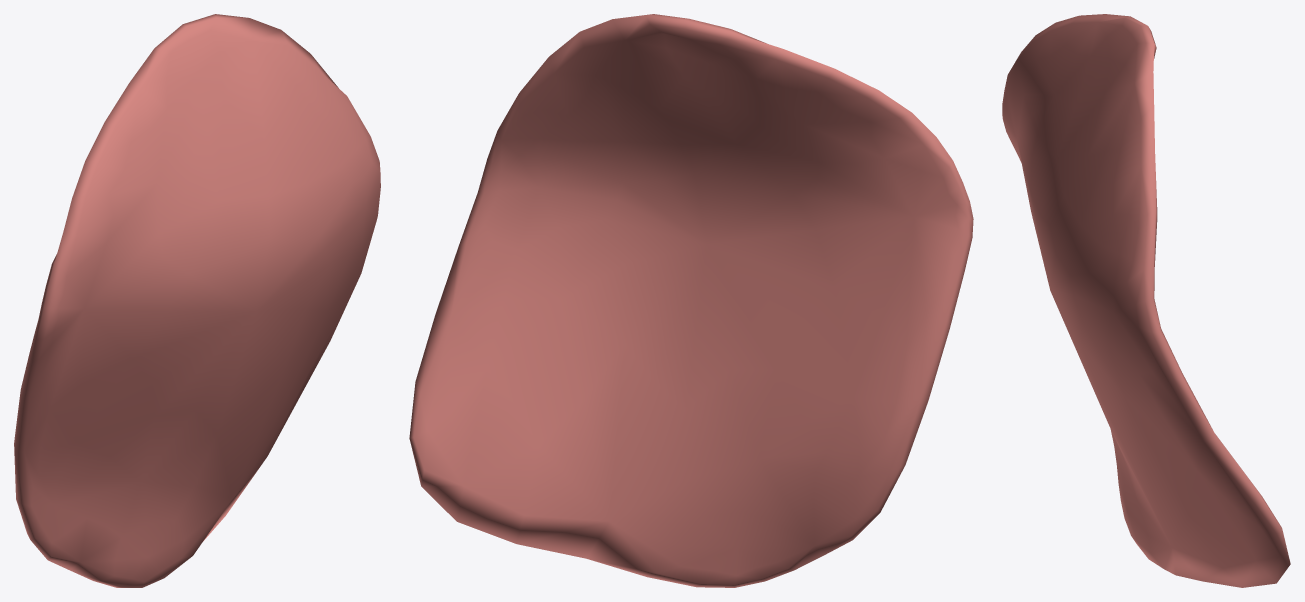
3 views of the same model, side by side, from view 1: azimuth 30°, elevation 25°; view 2: azimuth 150°, elevation 25°; view 3: azimuth 270°, elevation 25° (orthographic). The views are drawn at different scales.
Parts seen in each view (by area): view 1: ZA_0ede9794bd1d6210; view 2: ZA_0ede9794bd1d6210; view 3: ZA_0ede9794bd1d6210.
Boxes of the visible parts, bbox=[...] form: ZA_0ede9794bd1d6210: bbox=[14, 14, 380, 587]; ZA_0ede9794bd1d6210: bbox=[409, 14, 973, 587]; ZA_0ede9794bd1d6210: bbox=[1002, 14, 1290, 587].
Size of the model in its own units: 0.013 by 0.0161 by 0.0077.
